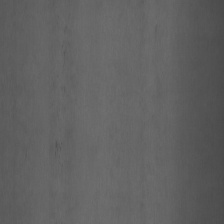silk_spot: (48, 118, 70, 161)
